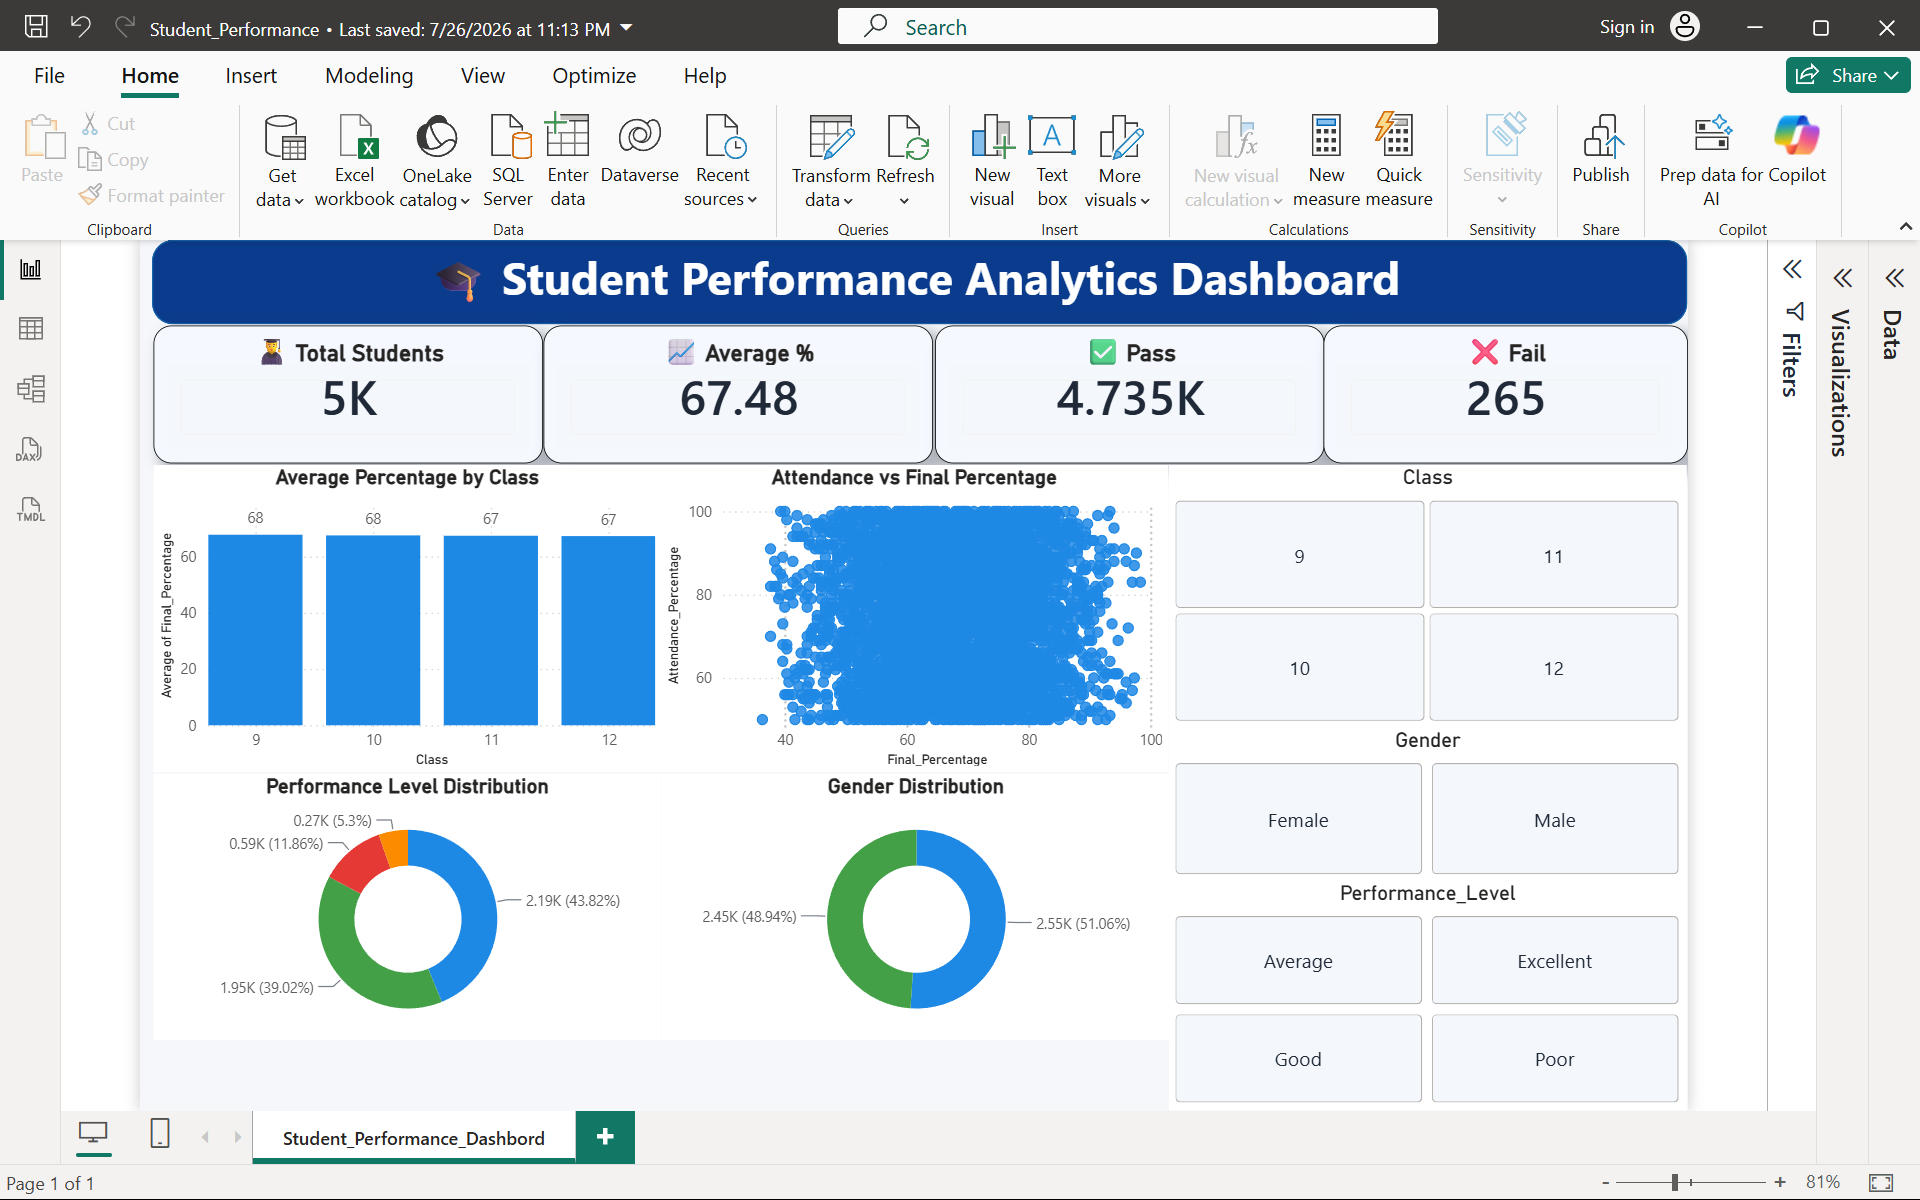

The dashboard page shown, as its layout file describes it:
{"tool":"powerbi","page":{"name":"Student_Performance_Dashbord","canvas":[1280,720],"ordinal":0},"visuals":[{"type":"shape","box":[10.3,0,1269.2,69.7],"z":0},{"type":"textbox","box":[0,0,1279.5,69.7],"z":1000},{"type":"cardVisual","title":"👨🎓 Total Students","fields":{"Data":["Count(StudentPerformance.Student_ID)"]},"box":[11.3,70.7,322,114],"z":2000},{"type":"cardVisual","title":"📈 Average %","fields":{"Data":["Avg(StudentPerformance.Final_Percentage)"]},"box":[333.6,70.7,322,114],"z":3000},{"type":"cardVisual","title":"✅ Pass  ","fields":{"Data":["Count(StudentPerformance.Student_ID)"]},"box":[657.5,70.7,322,114],"z":4000},{"type":"cardVisual","title":"❌ Fail","fields":{"Data":["Count(StudentPerformance.Student_ID)"]},"box":[978.3,70.7,301.3,114],"z":5000},{"type":"clusteredColumnChart","title":"Average Percentage by Class","fields":{"Category":["StudentPerformance.Class"],"Y":["Avg(StudentPerformance.Final_Percentage)"]},"box":[11.4,185.5,419.8,253.8],"z":6000},{"type":"scatterChart","title":"Attendance vs Final Percentage","fields":{"X":["StudentPerformance.Final_Percentage"],"Y":["StudentPerformance.Attendance_Percentage"]},"box":[430.4,185.5,419.8,253.8],"z":7000},{"type":"donutChart","title":"Performance Level Distribution","fields":{"Y":["Count(StudentPerformance.Student_ID)"],"Category":["StudentPerformance.Performance_Level"]},"box":[11,441.5,420,220],"z":8000},{"type":"donutChart","title":"Gender Distribution","fields":{"Category":["StudentPerformance.Gender"],"Y":["Count(StudentPerformance.Student_ID)"]},"box":[431.2,441,420,220],"z":9000},{"type":"advancedSlicerVisual","fields":{"Values":["StudentPerformance.Class"]},"box":[850.2,185.5,427.9,218],"z":10000},{"type":"advancedSlicerVisual","fields":{"Values":["StudentPerformance.Gender"]},"box":[850.2,403.5,427.9,126.9],"z":11000},{"type":"advancedSlicerVisual","fields":{"Values":["StudentPerformance.Performance_Level"]},"box":[850.2,530,427.9,190],"z":12000}]}

Visuals, with their boxes on the page's 1280x720 design canvas (x1, y1, x2, y2). These are canvas units, not pixel positions in the 1920x1200 screenshot, which may show the page scaled, cropped or inside an application window:
shape: bbox(10, 0, 1280, 70)
textbox: bbox(0, 0, 1280, 70)
"👨🎓 Total Students" cardVisual: bbox(11, 71, 333, 185)
"📈 Average %" cardVisual: bbox(334, 71, 656, 185)
"✅ Pass  " cardVisual: bbox(658, 71, 980, 185)
"❌ Fail" cardVisual: bbox(978, 71, 1280, 185)
"Average Percentage by Class" clusteredColumnChart: bbox(11, 186, 431, 439)
"Attendance vs Final Percentage" scatterChart: bbox(430, 186, 850, 439)
"Performance Level Distribution" donutChart: bbox(11, 442, 431, 662)
"Gender Distribution" donutChart: bbox(431, 441, 851, 661)
advancedSlicerVisual - StudentPerformance.Class: bbox(850, 186, 1278, 404)
advancedSlicerVisual - StudentPerformance.Gender: bbox(850, 404, 1278, 530)
advancedSlicerVisual - StudentPerformance.Performance_Level: bbox(850, 530, 1278, 720)
